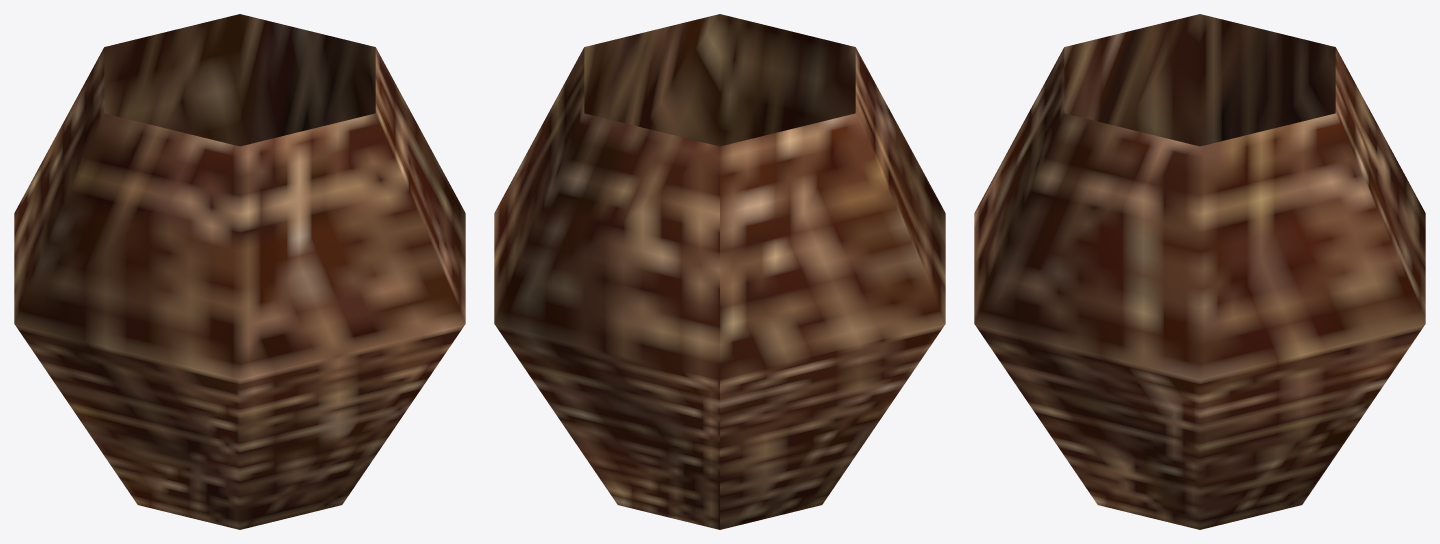
Rendered from basket.glb.
The picture shows the model from 3 angles, left to right: view 1: azimuth 30°, elevation 25°; view 2: azimuth 150°, elevation 25°; view 3: azimuth 270°, elevation 25°; orthographic projection.
Bounding box in the file's own units: 0.0125 × 0.0106 × 0.0108.
Materials: 1 (1 with a texture image).
